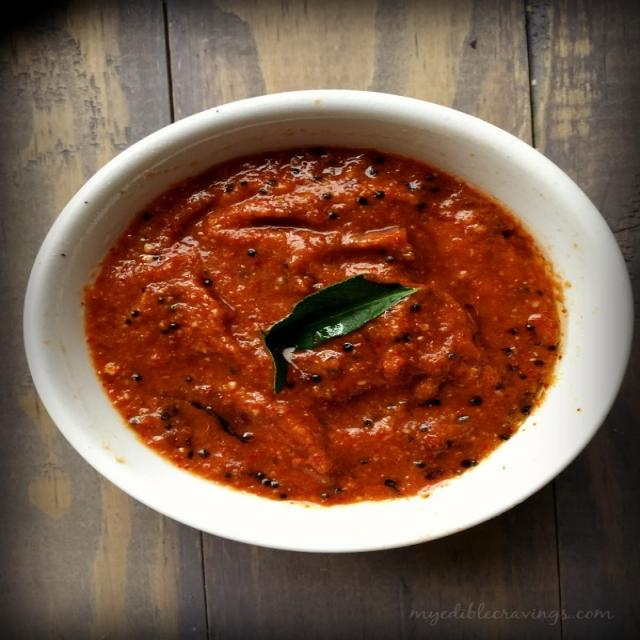kaara chutney: (54, 100, 581, 545)
